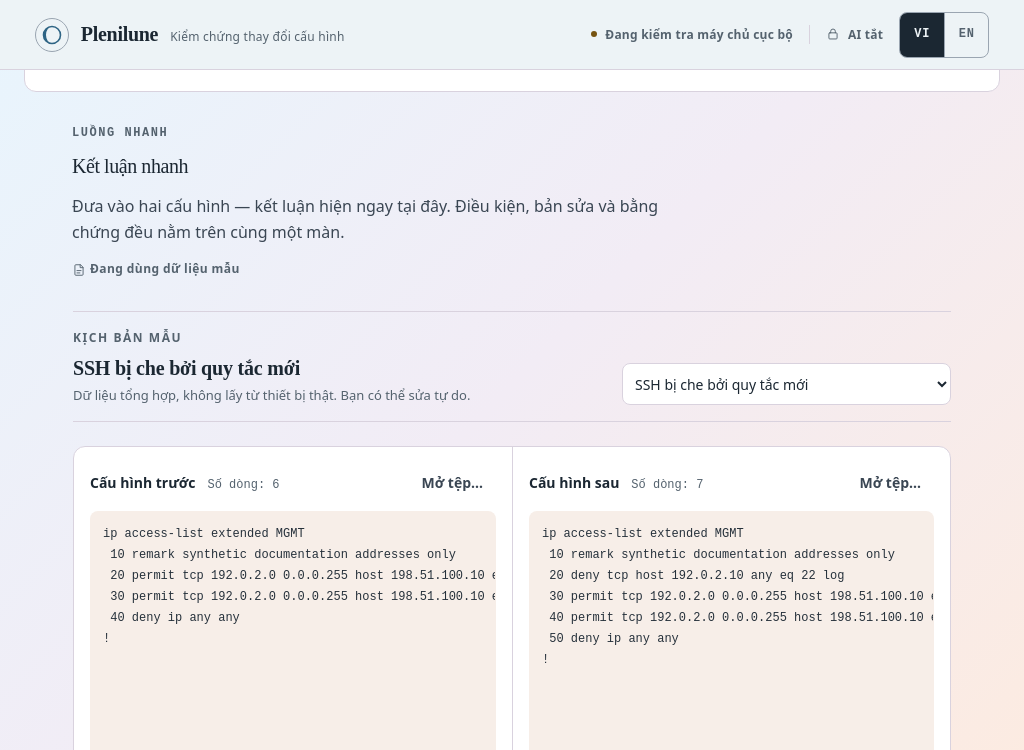
Test case: P1-8 quick verdict path › (b) reaches the verdict with no obligations at all and is never blocked
(page scrolled)
Select "Bắt đầu với nội dung trống" in the dropdown with id "sample-select" at (786, 384), box 622,363 -> 951,405
(page scrolled)
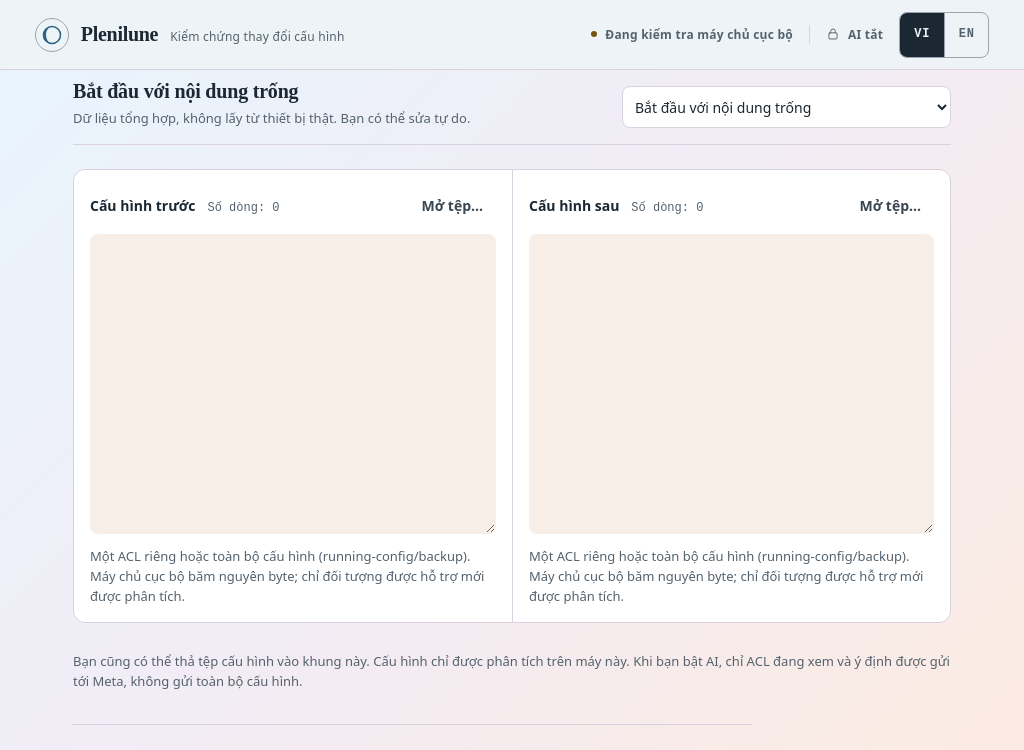
Type "ip access-list extended MGMT  10 remark synthetic documentation addresses only  20 permit tcp 192.0.2.0 0.0.0.255 host 198.51.100.10 eq 22  30 permit tcp 192.0.2.0 0.0.0.255 host 198.51.100.10 eq 443 " into the text box labelled "Cấu hình trước" at (293, 384), box 90,234 -> 496,534
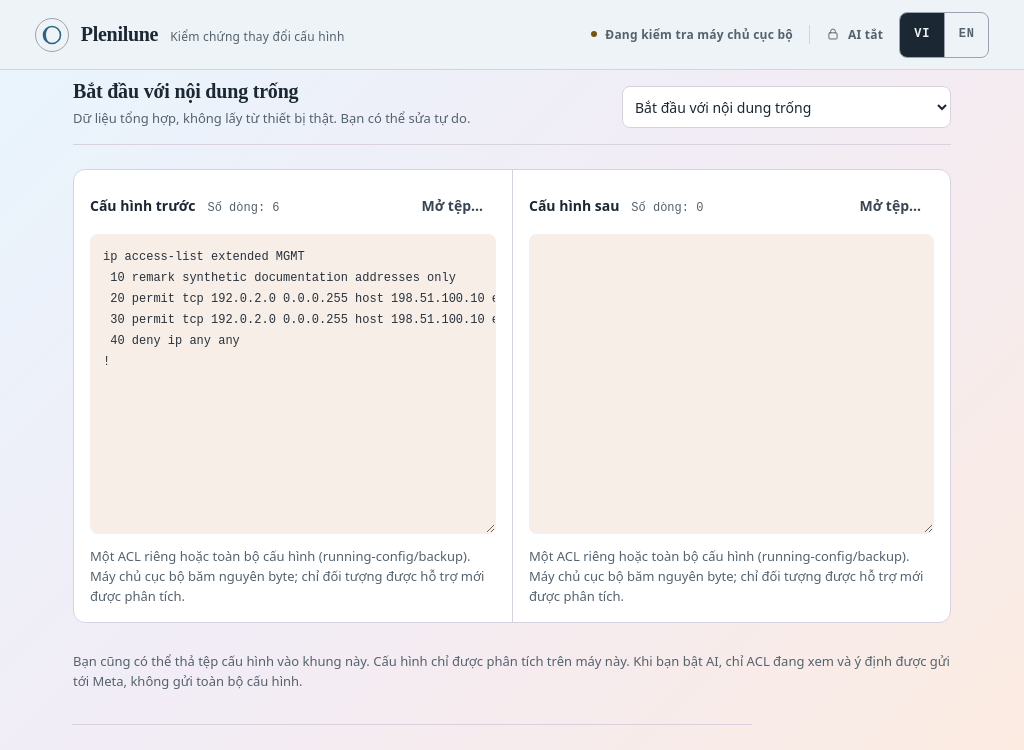
Type "ip access-list extended MGMT  10 remark synthetic documentation addresses only  20 deny tcp host 192.0.2.10 any eq 22 log  30 permit tcp 192.0.2.0 0.0.0.255 host 198.51.100.10 eq 22  40 permit tcp 192" into the text box labelled "Cấu hình sau" at (732, 384), box 529,234 -> 934,534
(page scrolled)
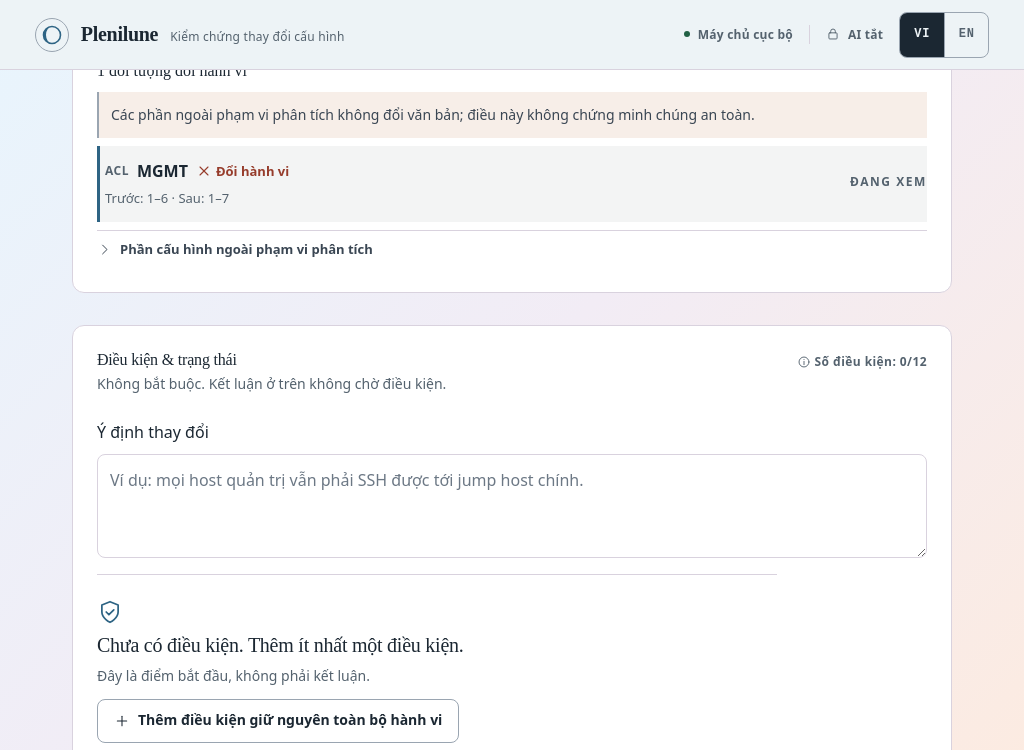
Expected: the heading "Chưa có điều kiện. Thêm ít nhất một điều kiện." is shown, 97,632 -> 464,656
Expected: the text "Không bắt buộc. Kết luận ở trên không chờ điều kiện." is shown, 97,373 -> 446,395
